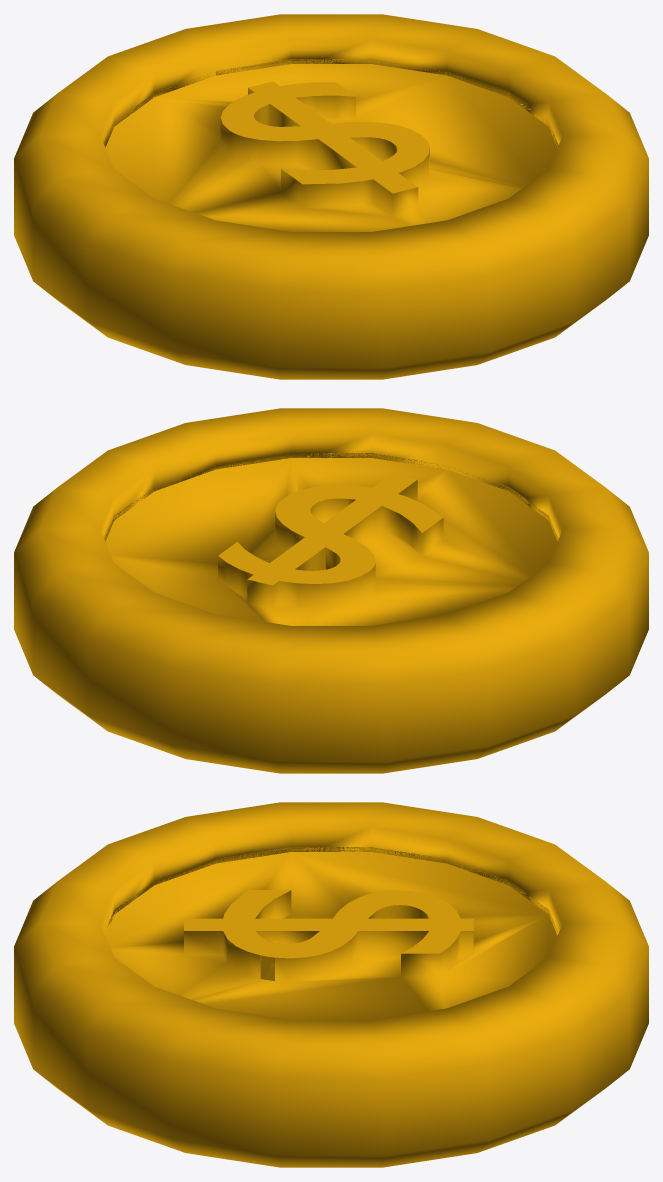
File: coin_new.glb
3 renders of one model, top to bottom at view 1: azimuth 30°, elevation 25°; view 2: azimuth 150°, elevation 25°; view 3: azimuth 270°, elevation 25°, orthographic.
Visible parts, largest first — view 1: coin_new; view 2: coin_new; view 3: coin_new.
Part boxes in pixels (bbox=[...]): coin_new: bbox=[14, 14, 648, 379]; coin_new: bbox=[14, 408, 648, 773]; coin_new: bbox=[14, 802, 648, 1167].
Bounding box in the file's own units: 1.97 × 0.4256 × 2.
